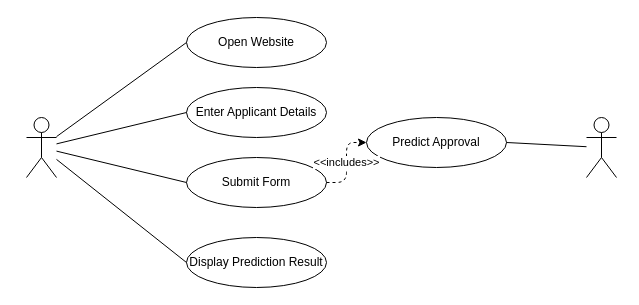
The diagram is 639 pixels wide and 305 high, and some of its shapes have lost their labels. The shapes that lost their labels are listed below. From the top down, each one's centre as x and y in pixels, then its label:
At [41,147]: "Applicant".
At [601,147]: "System".
